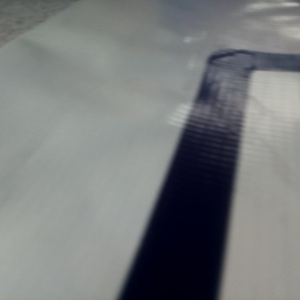bottom_right: (52, 134, 144, 184)
top_left: (37, 99, 110, 135)
top_right: (86, 109, 166, 146)
